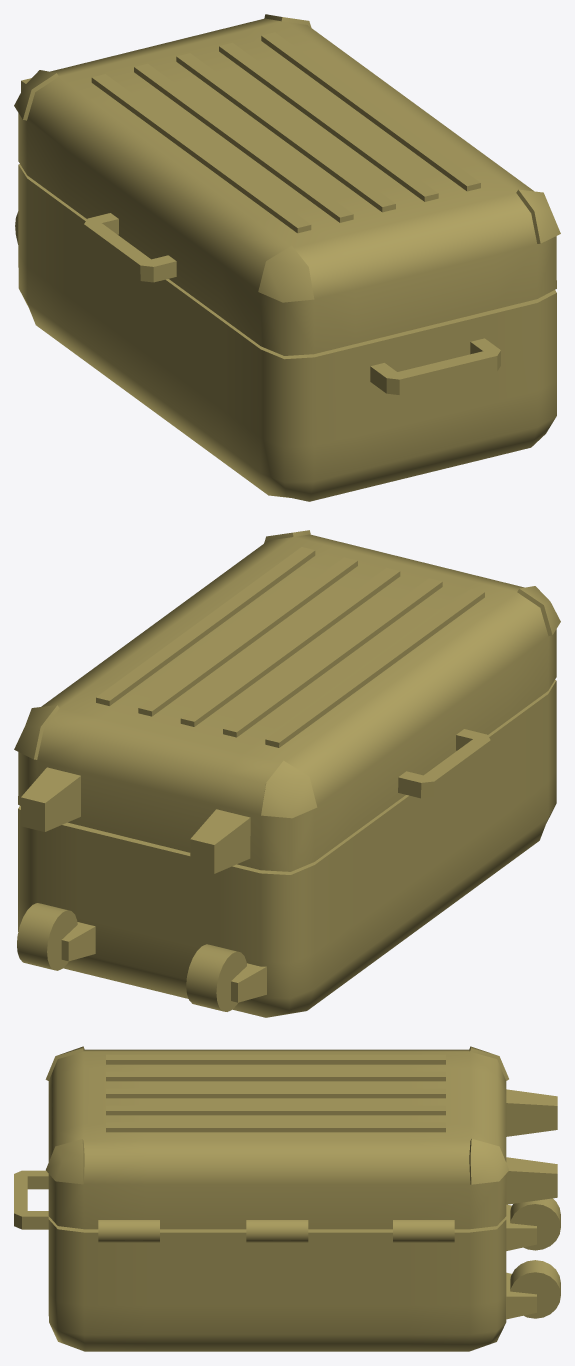
File: Case.fbx
3 views of the same model, one above another, from view 1: azimuth 30°, elevation 25°; view 2: azimuth 150°, elevation 25°; view 3: azimuth 270°, elevation 25° (orthographic). The views are drawn at different scales.
Parts seen in each view (by area): view 1: Case; view 2: Case; view 3: Case.
Boxes of the visible parts, <box> form: Case: <box>14,14,560,501</box>; Case: <box>14,530,560,1017</box>; Case: <box>14,1046,560,1351</box>.
Size of the model in its own units: 53.92 by 39.84 by 93.27.
